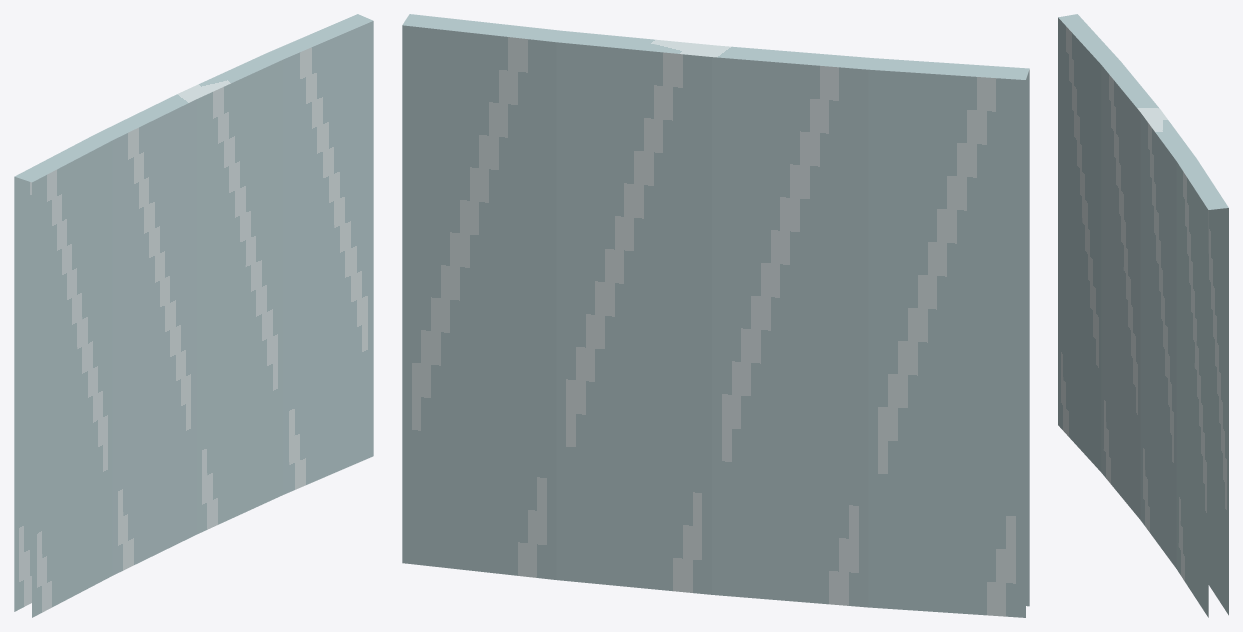
The model's file is curve_glass_12.obj.
3 renders of one model, left to right at view 1: azimuth 30°, elevation 25°; view 2: azimuth 150°, elevation 25°; view 3: azimuth 270°, elevation 25°, orthographic. The views are drawn at different scales.
Visible parts, largest first — view 1: curve_glass_12; view 2: curve_glass_12; view 3: curve_glass_12.
Boxes of the visible parts, left/top/right/bottom form: curve_glass_12: left=14, top=14, right=373, bottom=617; curve_glass_12: left=402, top=14, right=1029, bottom=617; curve_glass_12: left=1058, top=14, right=1228, bottom=617.
Bounding box in the file's own units: 1.03 × 1 × 0.3797.
